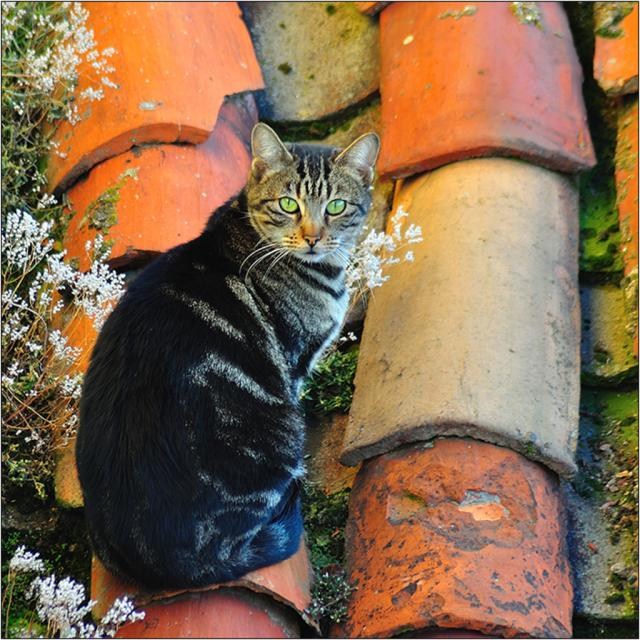Cat: (68, 120, 383, 605)
